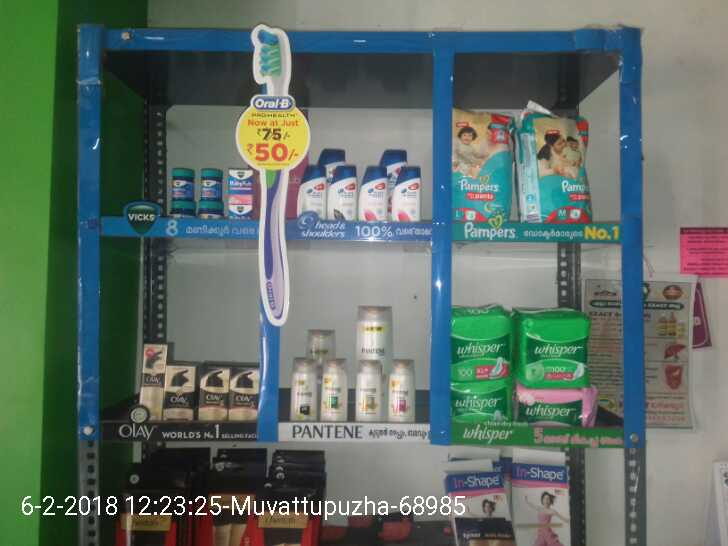vicks: (175, 165, 252, 222)
